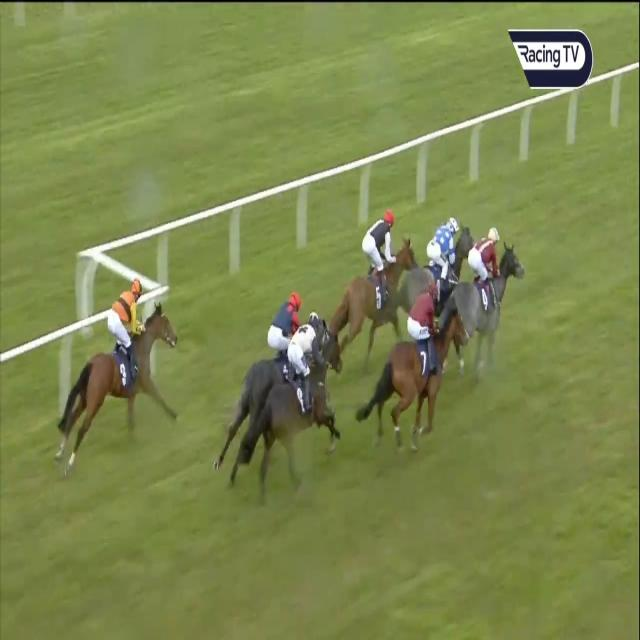horses-racing: (56, 280, 184, 445), (250, 314, 344, 515), (384, 287, 480, 456), (447, 221, 526, 390), (327, 208, 430, 334), (222, 293, 316, 427), (404, 202, 478, 307)
